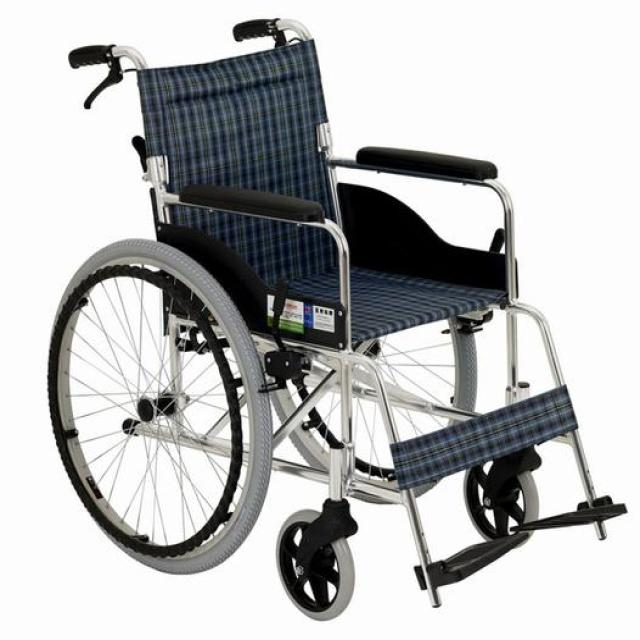wheelchairs: (36, 10, 639, 627)
